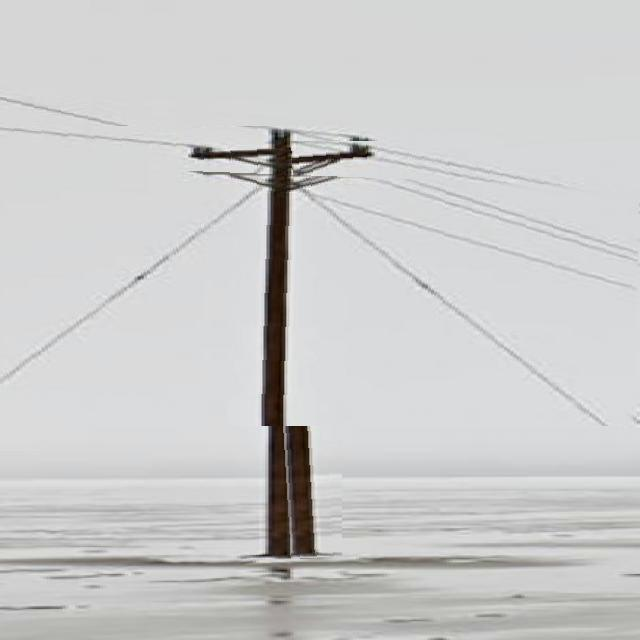crossarm: (186, 140, 375, 179)
pole: (269, 137, 342, 559)
wire: (0, 173, 618, 426), (0, 127, 640, 248), (0, 97, 535, 230), (292, 142, 639, 218)
